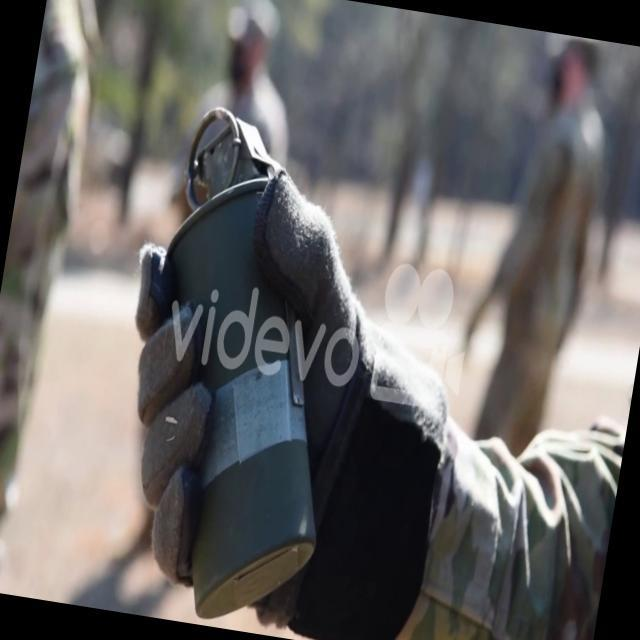grenade: (93, 97, 381, 637)
